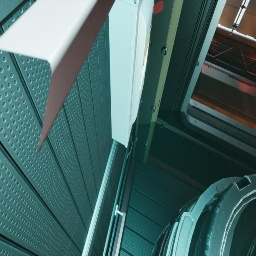SafetySwitchPanel ,: (108, 0, 163, 148)
